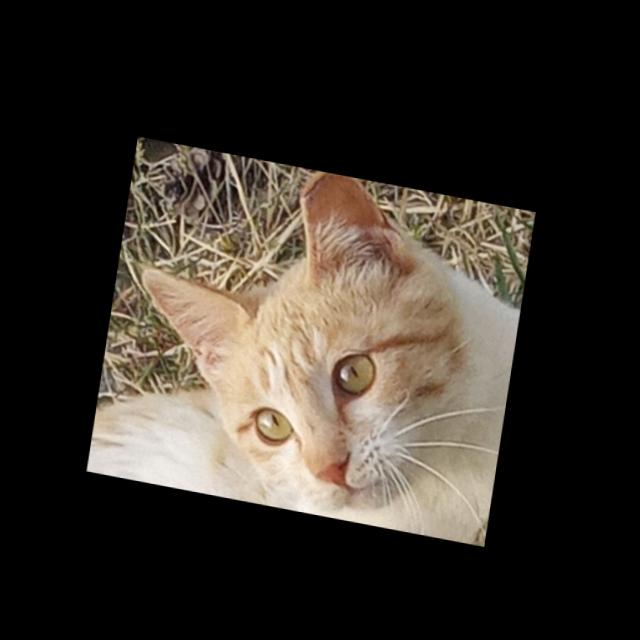animals: (99, 134, 514, 531)
